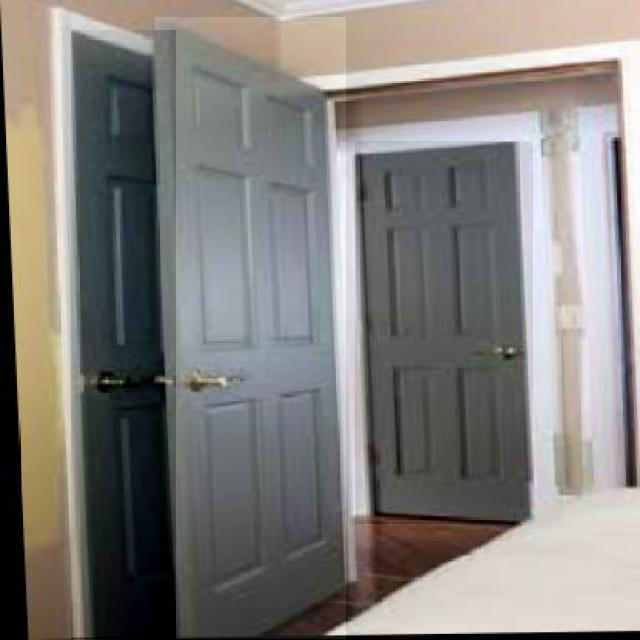door: (155, 11, 348, 640), (355, 141, 533, 532), (69, 28, 176, 640)
